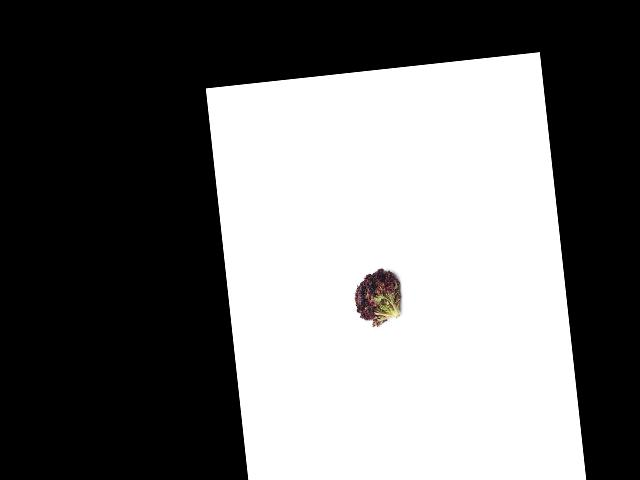lettuce: (349, 263, 407, 326)
